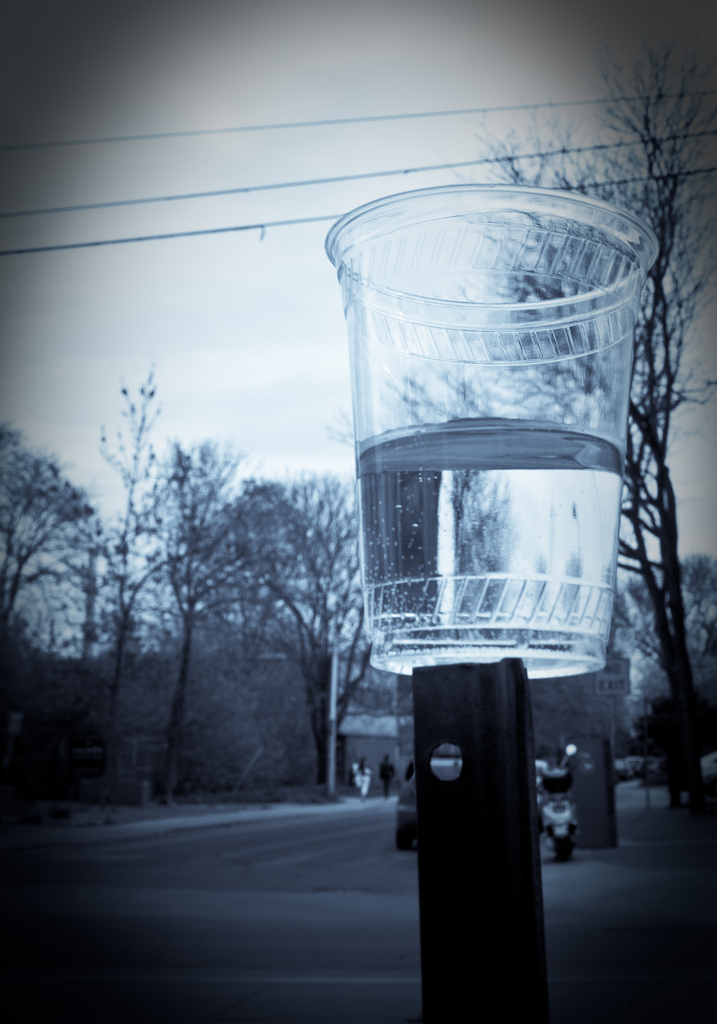glass of water: (319, 181, 661, 687)
